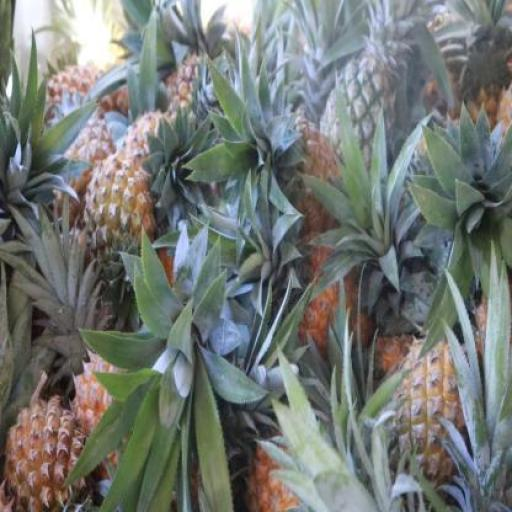------------------------------: (385, 336, 468, 489), (85, 155, 153, 288)
Pineapple - v8 v1: (5, 394, 82, 512)
